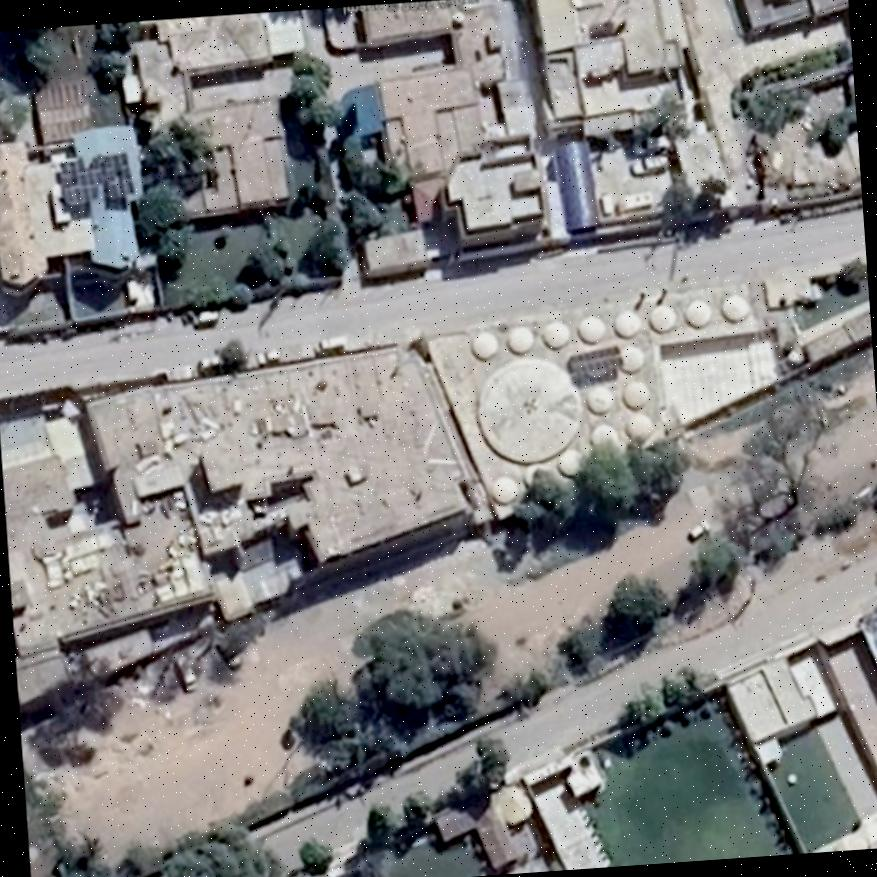Solarpanel: (59, 154, 131, 204), (569, 348, 625, 378)
